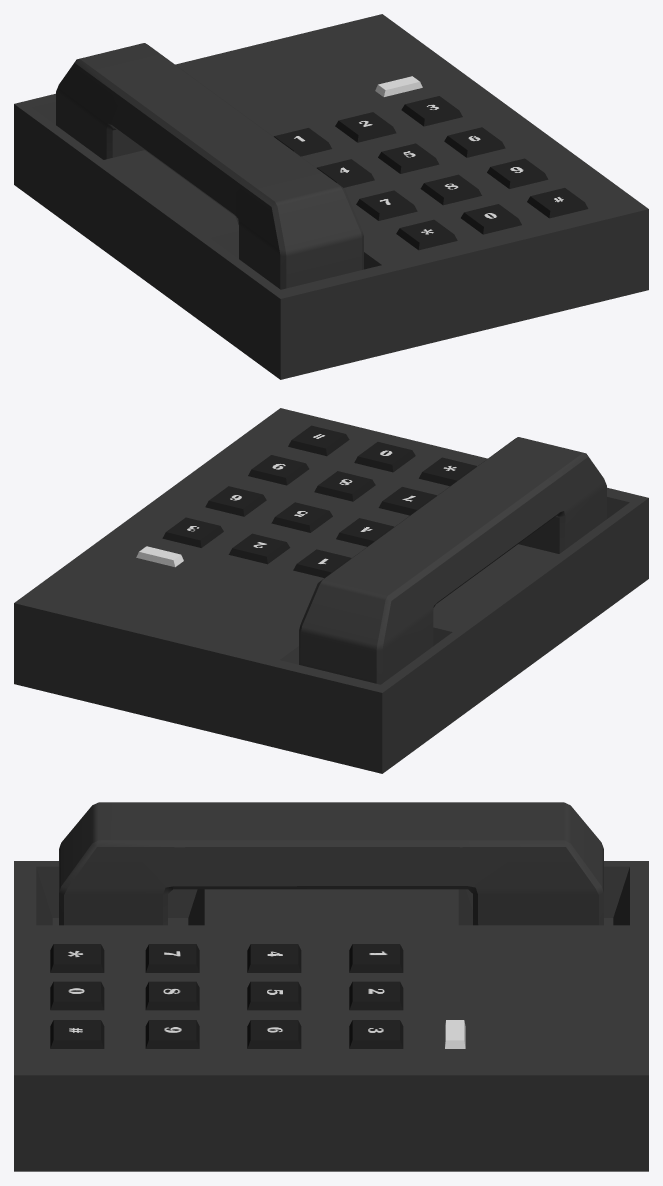
The model's file is LandlinePhone.fbx.
The picture shows the model from 3 angles, top to bottom: view 1: azimuth 30°, elevation 25°; view 2: azimuth 150°, elevation 25°; view 3: azimuth 270°, elevation 25°; orthographic projection. The views are drawn at different scales.
Visible parts, largest first — view 1: Base, Eight, Asterisk, Two, Three, Zero, Six, Five, Nine, Seven, Hashtag, Four (+2 smaller); view 2: Base, Nine, Six, Five, Hashtag, Two, Three, Eight, Zero, Four, Seven, One (+2 smaller); view 3: Base, Five, Two, Eight, Zero, Three, Nine, Seven, Asterisk, Hashtag, One, Six (+2 smaller).
Part boxes in pixels (box(x1,y1,x2,y2)): Base: box(14, 14, 648, 379); Eight: box(420, 174, 481, 205); Asterisk: box(396, 219, 457, 250); Two: box(335, 112, 396, 142); Three: box(401, 96, 462, 126); Zero: box(461, 204, 521, 234); Six: box(444, 127, 505, 157); Five: box(378, 143, 439, 173); Nine: box(487, 158, 548, 188); Seven: box(356, 190, 417, 220); Hashtag: box(527, 188, 588, 218); Four: box(317, 159, 374, 187); Base: box(14, 408, 648, 773); Nine: box(248, 455, 309, 485); Six: box(205, 486, 266, 516); Five: box(271, 502, 332, 532); Hashtag: box(288, 425, 349, 456); Two: box(228, 533, 290, 564); Three: box(162, 517, 223, 547); Eight: box(314, 471, 375, 501); Zero: box(354, 442, 415, 472); Four: box(336, 518, 393, 546); Seven: box(378, 487, 436, 515); One: box(293, 549, 351, 577); Base: box(14, 802, 648, 1171); Five: box(247, 981, 301, 1010); Two: box(349, 981, 403, 1010); Eight: box(145, 981, 199, 1010); Zero: box(50, 981, 104, 1010); Three: box(349, 1020, 403, 1048); Nine: box(145, 1020, 199, 1048); Seven: box(145, 944, 199, 972); Asterisk: box(50, 944, 104, 972); Hashtag: box(50, 1020, 104, 1048); One: box(349, 944, 403, 972); Six: box(247, 1020, 301, 1048).
Bounding box in the file's own units: 4.76 × 1.79 × 5.97.
